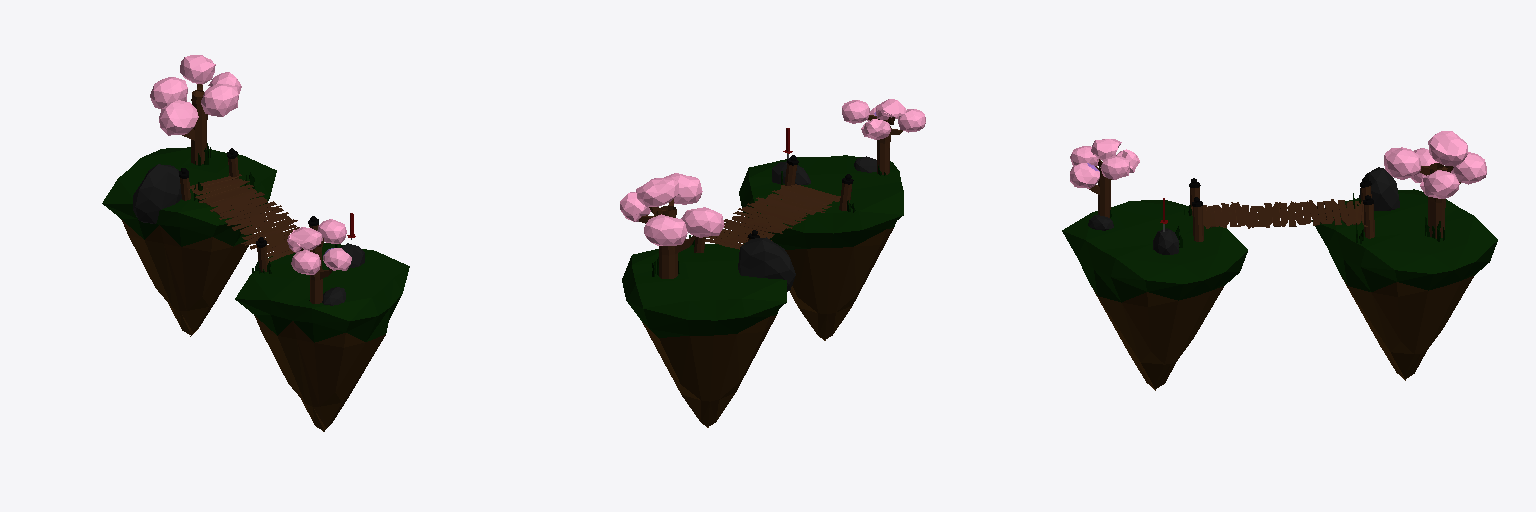
Rendered from stage2.obj.
3 views of the same model, side by side, from view 1: azimuth 30°, elevation 25°; view 2: azimuth 150°, elevation 25°; view 3: azimuth 270°, elevation 25° (orthographic).
Visible parts, largest first — view 1: Cube.010_Cube.000, Cube.026_Cube.027, Sphere.003, Cylinder_Cylinder.010, Cylinder.001_Cylinder.011, Icosphere.002_Icosphere.079; view 2: Cube.026_Cube.027, Cube.010_Cube.000, Cylinder_Cylinder.010, Sphere.003, Cylinder.001_Cylinder.011, Icosphere.002_Icosphere.079; view 3: Cube.010_Cube.000, Cube.026_Cube.027, Sphere.003, Cylinder_Cylinder.010, Cylinder.001_Cylinder.011, Icosphere.002_Icosphere.079, Icosphere.003_Icosphere.080.
Part boxes in pixels (bbox=[...]): Cube.010_Cube.000: bbox=[235, 243, 409, 431]; Cube.026_Cube.027: bbox=[102, 147, 276, 336]; Sphere.003: bbox=[179, 148, 318, 271]; Cylinder_Cylinder.010: bbox=[150, 55, 241, 164]; Cylinder.001_Cylinder.011: bbox=[287, 219, 351, 303]; Icosphere.002_Icosphere.079: bbox=[133, 164, 181, 223]; Cube.026_Cube.027: bbox=[622, 244, 786, 427]; Cube.010_Cube.000: bbox=[739, 155, 903, 340]; Cylinder_Cylinder.010: bbox=[620, 173, 724, 278]; Sphere.003: bbox=[694, 155, 853, 252]; Cylinder.001_Cylinder.011: bbox=[842, 99, 925, 174]; Icosphere.002_Icosphere.079: bbox=[738, 237, 795, 291]; Cube.010_Cube.000: bbox=[1062, 200, 1247, 390]; Cube.026_Cube.027: bbox=[1312, 189, 1497, 380]; Sphere.003: bbox=[1189, 177, 1374, 241]; Cylinder_Cylinder.010: bbox=[1384, 131, 1486, 238]; Cylinder.001_Cylinder.011: bbox=[1070, 139, 1139, 217]; Icosphere.002_Icosphere.079: bbox=[1359, 167, 1399, 210]; Icosphere.003_Icosphere.080: bbox=[1153, 228, 1178, 254].
Bounding box in the file's own units: 5.9 × 8.59 × 12.88.